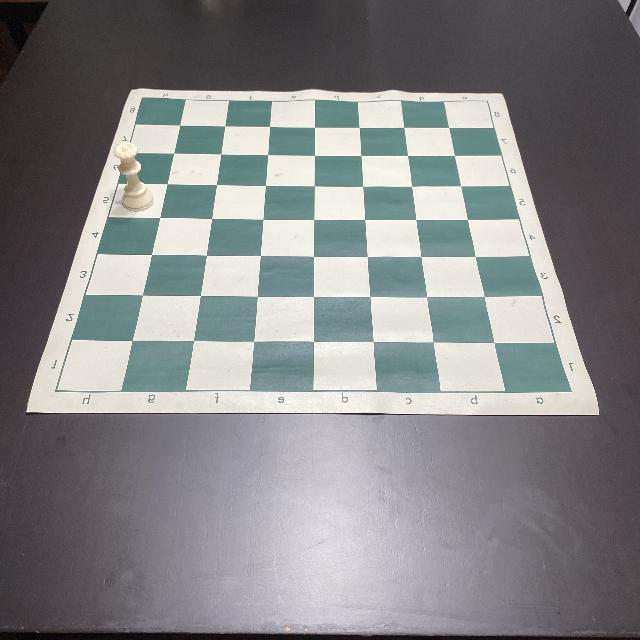board: (26, 89, 598, 415)
white-queen: (113, 137, 155, 210)
